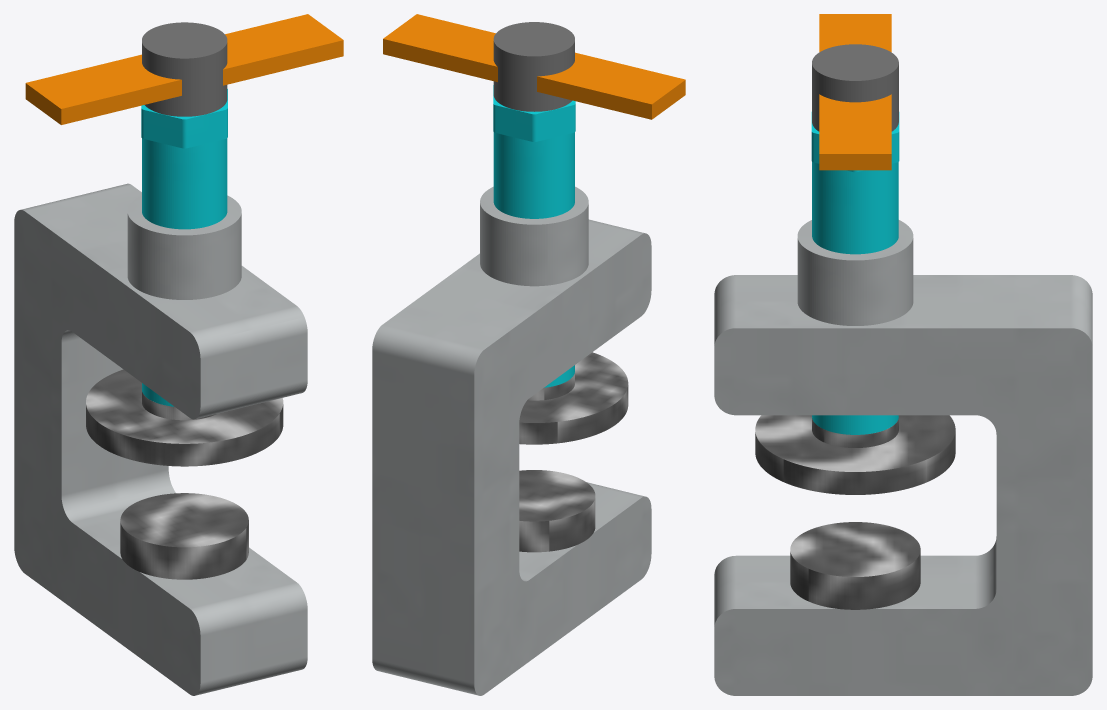
The model's file is Handtools_Clamp__0012.glb.
The picture shows the model from 3 angles, left to right: view 1: azimuth 30°, elevation 25°; view 2: azimuth 150°, elevation 25°; view 3: azimuth 270°, elevation 25°; orthographic projection. The views are drawn at different scales.
Visible parts, largest first — view 1: frame::frame_body, screw::pressing_disc, frame::anvil_pad, screw::screw_core, screw::handle_hub, screw::wing_0, screw::wing_1, screw::screw_collar; view 2: frame::frame_body, screw::pressing_disc, screw::screw_core, screw::handle_hub, screw::wing_0, frame::anvil_pad, screw::wing_1, screw::screw_collar; view 3: frame::frame_body, screw::pressing_disc, frame::anvil_pad, screw::screw_core, screw::wing_1, screw::handle_hub, screw::wing_0, screw::screw_collar.
Boxes of the visible parts, x1=… form: frame::frame_body: x1=14, y1=183, x2=307, y2=695; screw::pressing_disc: x1=86, y1=369, x2=283, y2=466; frame::anvil_pad: x1=120, y1=493, x2=248, y2=579; screw::screw_core: x1=142, y1=138, x2=227, y2=406; screw::handle_hub: x1=142, y1=22, x2=227, y2=116; screw::wing_0: x1=25, y1=54, x2=181, y2=124; screw::wing_1: x1=223, y1=14, x2=343, y2=85; screw::screw_collar: x1=141, y1=89, x2=227, y2=148; frame::frame_body: x1=372, y1=186, x2=651, y2=695; screw::pressing_disc: x1=519, y1=352, x2=628, y2=444; screw::screw_core: x1=493, y1=132, x2=574, y2=387; screw::handle_hub: x1=493, y1=22, x2=574, y2=111; screw::wing_0: x1=537, y1=52, x2=685, y2=119; frame::anvil_pad: x1=519, y1=470, x2=595, y2=552; screw::wing_1: x1=383, y1=14, x2=497, y2=82; screw::screw_collar: x1=493, y1=85, x2=575, y2=141; frame::frame_body: x1=714, y1=220, x2=1092, y2=695; screw::pressing_disc: x1=755, y1=415, x2=955, y2=494; frame::anvil_pad: x1=790, y1=522, x2=920, y2=609; screw::screw_core: x1=812, y1=162, x2=898, y2=434; screw::wing_1: x1=819, y1=94, x2=891, y2=170; screw::handle_hub: x1=812, y1=44, x2=898, y2=131; screw::wing_0: x1=819, y1=14, x2=891, y2=52; screw::screw_collar: x1=811, y1=112, x2=899, y2=172.
Size of the model in its own units: 0.0915 by 0.1849 by 0.1044.
5 materials, 4 textured.
